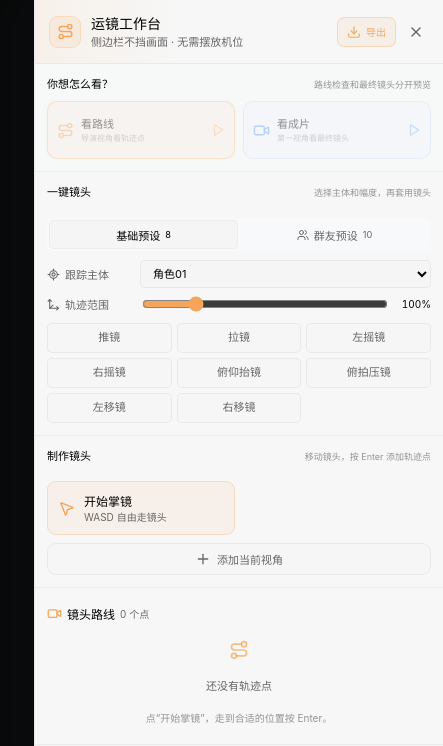
Scenario: opens community presets separately and shows their contribution metadata
The width and height of the screenshot is (443, 746).
Click the button "群友预设 10": {"x": 334, "y": 234} [241,221,428,248]
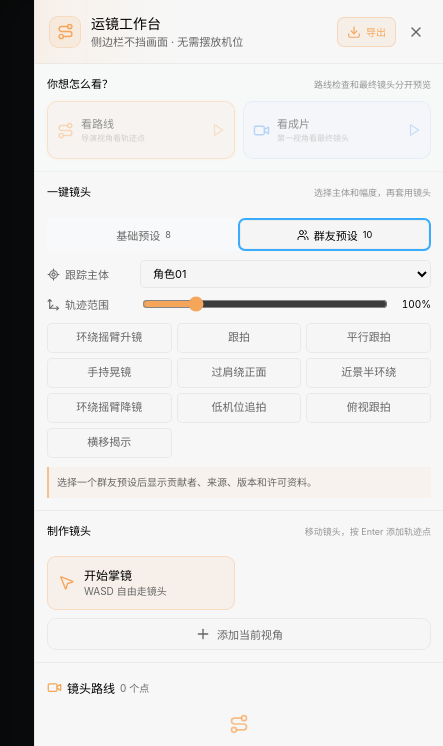
Expected: the button "套用推镜镜头预设" is gone
Click the button with aria-label "套用跟拍镜头预设": {"x": 239, "y": 338} [177,323,301,353]
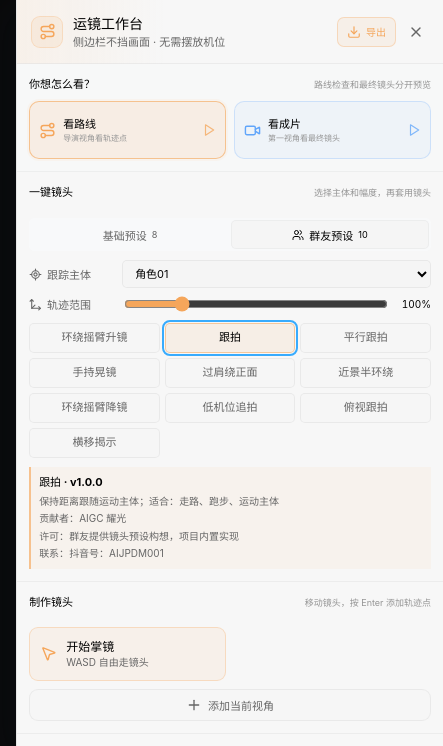
Expected: the element named "群友预设资料" shows "跟拍 · v1.0.0", [29,467,431,569]
Expected: the element named "群友预设资料" shows "贡献者：AIGC 耀光", [29,467,431,569]
Expected: the element named "群友预设资料" shows "联系：抖音号：AIJPDM001", [29,467,431,569]
